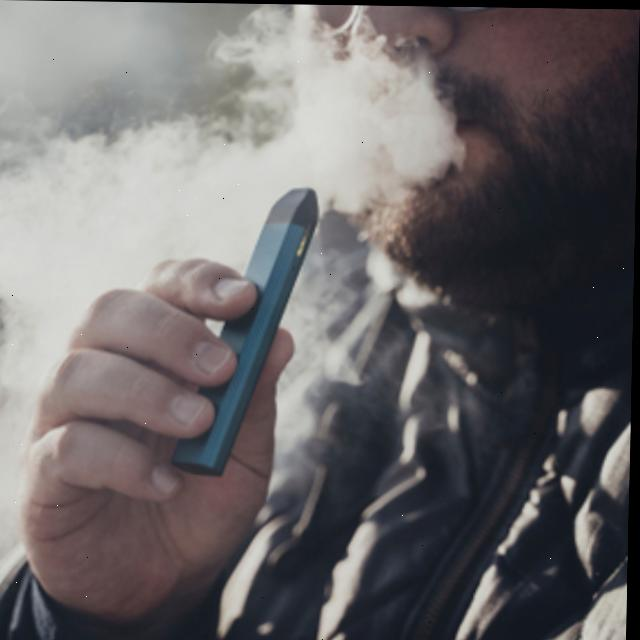vape: (173, 186, 324, 476)
